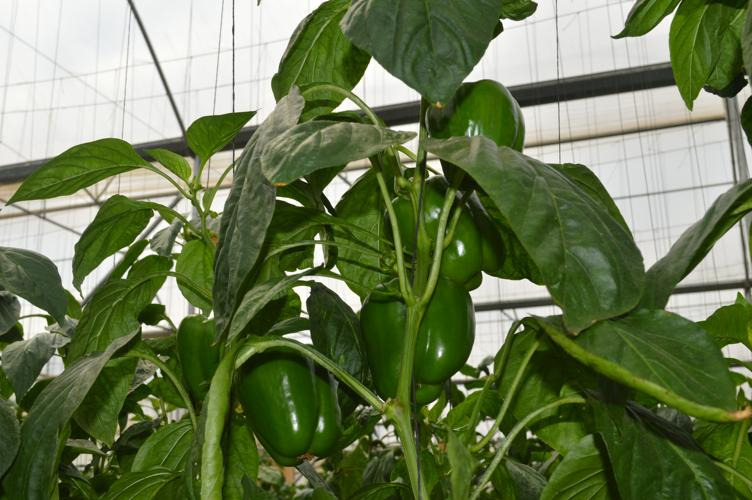BellPepper: (366, 277, 474, 410), (385, 180, 507, 291), (238, 351, 342, 463), (431, 81, 526, 192), (174, 315, 226, 402)
